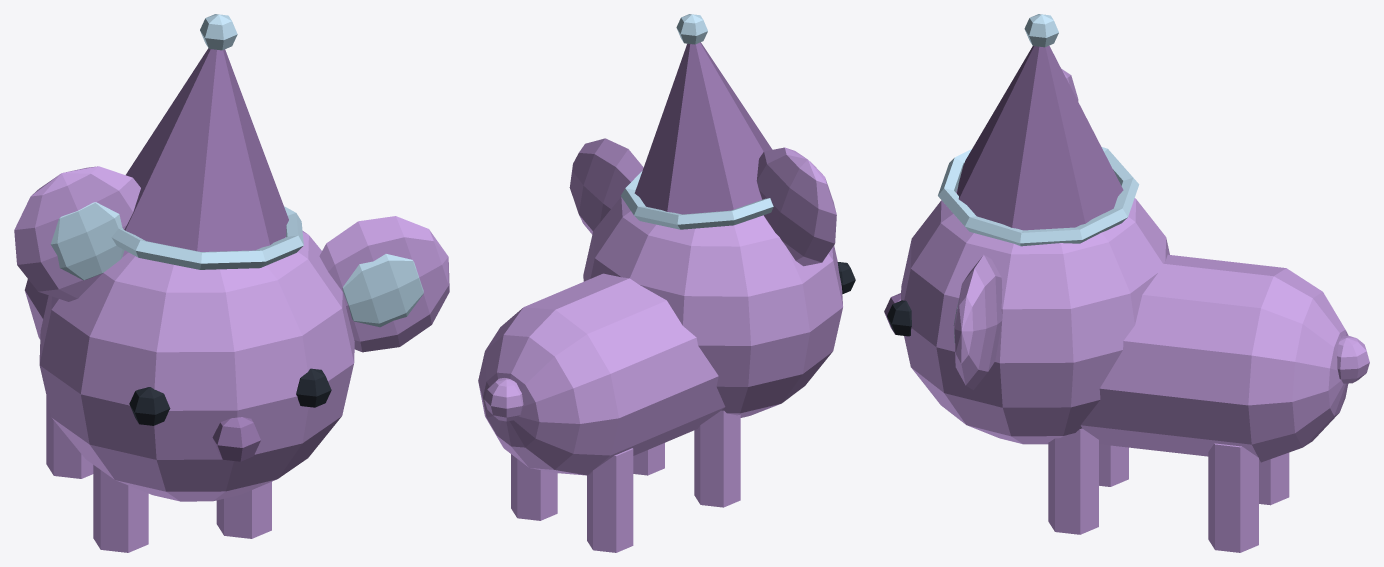
File: bean-ice-1.glb
3 views of the same model, side by side, from view 1: azimuth 30°, elevation 25°; view 2: azimuth 150°, elevation 25°; view 3: azimuth 270°, elevation 25° (orthographic). The views are drawn at different scales.
Parts seen in each view (by area): view 1: bean-ice-1; view 2: bean-ice-1; view 3: bean-ice-1.
Part boxes in pixels (x1,y1,x2,y2): bean-ice-1: (14, 14, 449, 552); bean-ice-1: (478, 14, 855, 552); bean-ice-1: (884, 14, 1369, 552).
Bounding box in the file's own units: 0.6598 × 0.9 × 0.8079.
